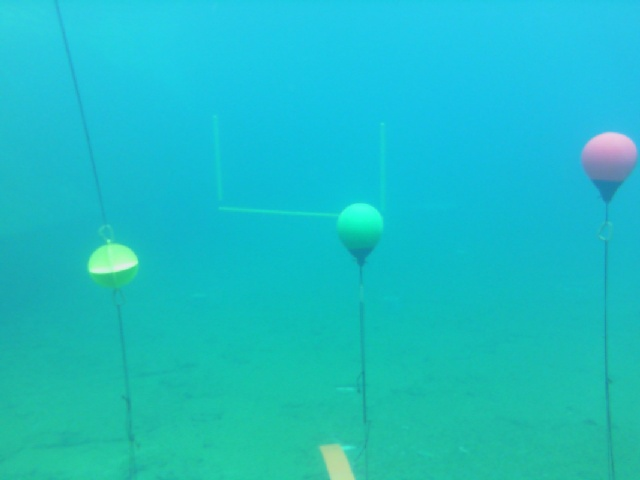buoy_green: (336, 202, 384, 264)
buoy_red: (581, 131, 636, 202)
buoy_yellow: (86, 240, 139, 293)
channel: (208, 116, 391, 218)
